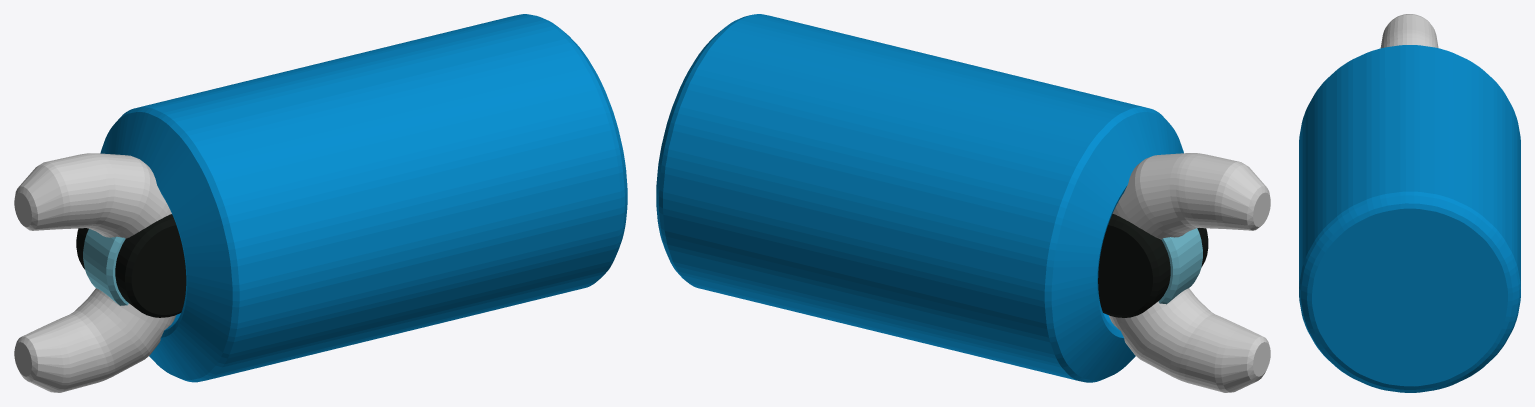
Rendered from riged_hand.dae.
The picture shows the model from 3 angles, left to right: view 1: azimuth 30°, elevation 25°; view 2: azimuth 150°, elevation 25°; view 3: azimuth 270°, elevation 25°; orthographic projection. The views are drawn at different scales.
Visible parts, largest first — view 1: NewArmAsset; view 2: NewArmAsset; view 3: NewArmAsset.
Boxes of the visible parts, box(x1,y1,x2,y2) form: NewArmAsset: box(14, 14, 627, 392); NewArmAsset: box(656, 14, 1270, 392); NewArmAsset: box(1299, 14, 1520, 392).
Size of the model in its own units: 0.7022 by 0.3161 by 0.3161.
